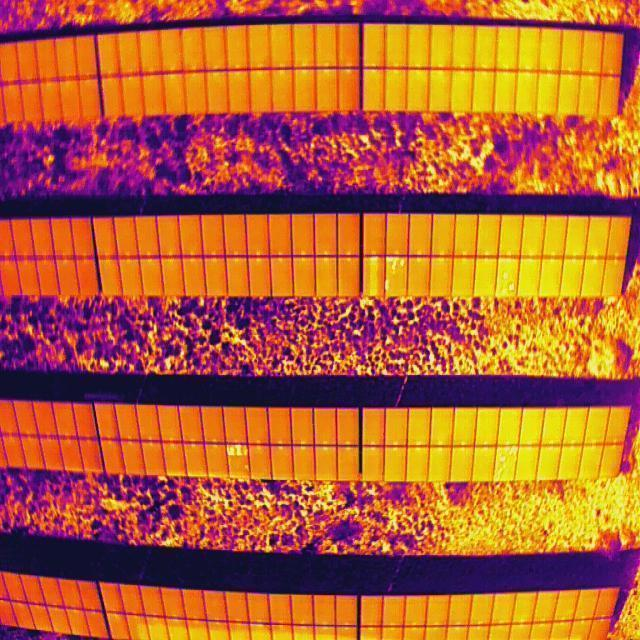diode: (366, 258, 380, 298)
hotspot: (386, 257, 408, 297), (499, 256, 517, 297), (497, 446, 517, 481), (225, 445, 247, 459)
